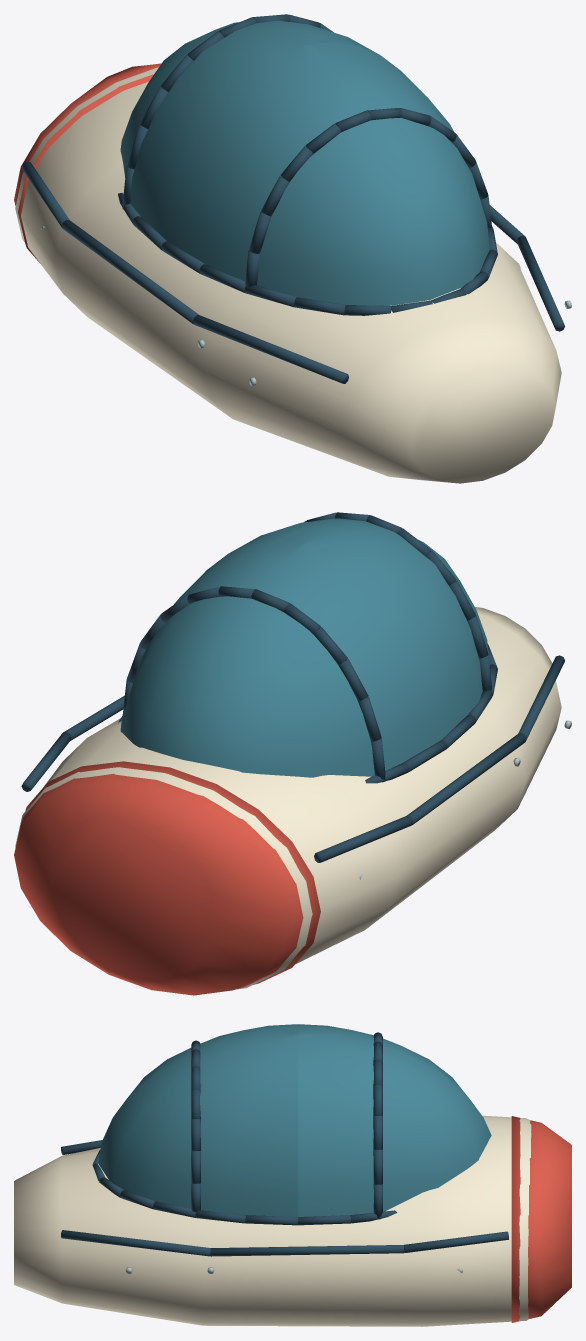
File: cockpit.glb
3 renders of one model, top to bottom at view 1: azimuth 30°, elevation 25°; view 2: azimuth 150°, elevation 25°; view 3: azimuth 270°, elevation 25°, orthographic. The views are drawn at different scales.
Visible parts, largest first — view 1: cockpit_Ivory, cockpit_Glass, cockpit_Navy, cockpit_Paint; view 2: cockpit_Glass, cockpit_Paint, cockpit_Ivory, cockpit_Navy; view 3: cockpit_Ivory, cockpit_Glass, cockpit_Navy, cockpit_Paint.
Boxes of the visible parts, <box> form: cockpit_Ivory: <box>15,67,561,483</box>; cockpit_Glass: <box>120,20,489,305</box>; cockpit_Navy: <box>21,14,564,383</box>; cockpit_Paint: <box>14,63,161,263</box>; cockpit_Glass: <box>120,518,489,777</box>; cockpit_Paint: <box>14,761,320,995</box>; cockpit_Ivory: <box>15,607,561,989</box>; cockpit_Navy: <box>21,512,564,862</box>; cockpit_Ivory: <box>14,1115,531,1326</box>; cockpit_Glass: <box>98,1024,491,1216</box>; cockpit_Navy: <box>61,1032,508,1256</box>; cockpit_Paint: <box>511,1116,571,1322</box>.
Bounding box in the file's own units: 0.872 × 0.804 × 1.5.
